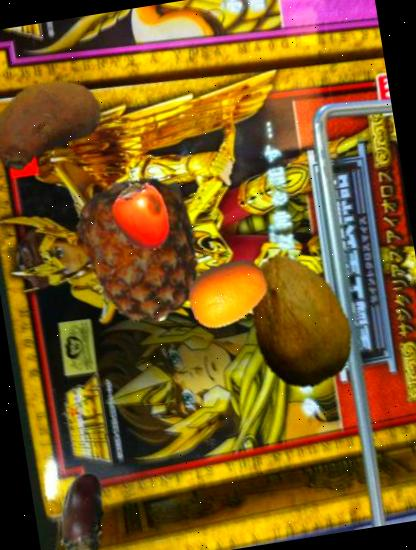Eggplant: (29, 463, 137, 550)
Kaki: (99, 174, 183, 258)
Kumquats: (182, 247, 275, 340)
Papaya: (219, 241, 379, 401)
Pineapple: (59, 166, 227, 334)
Potato: (0, 51, 112, 188)
